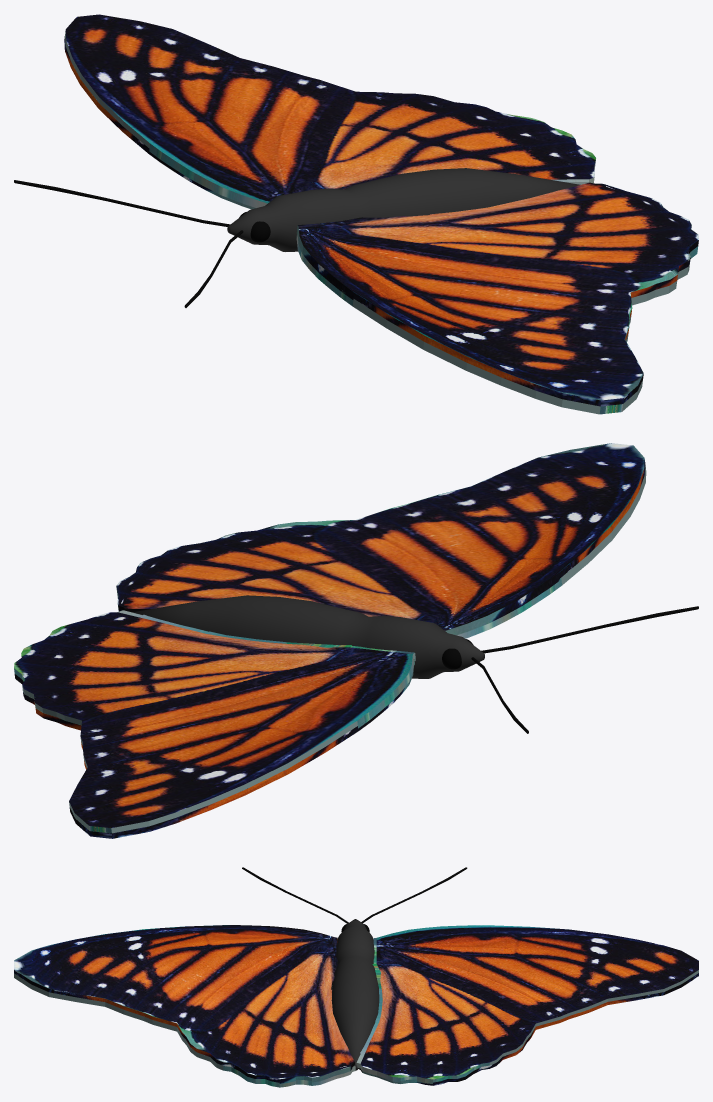
File: Butterfly.fbx
3 views of the same model, one above another, from view 1: azimuth 30°, elevation 25°; view 2: azimuth 150°, elevation 25°; view 3: azimuth 270°, elevation 25° (orthographic). The views are drawn at different scales.
Parts seen in each view (by area): view 1: lw.001, rw.001, body, lw, rw, moustache.001; view 2: rw.001, lw.001, body, rw, lw, moustache; view 3: rw.001, lw.001, body, lw, rw.
Boxes of the visible parts, bbox=[...] form: lw.001: bbox=[296, 182, 698, 406]; rw.001: bbox=[65, 14, 595, 207]; body: bbox=[227, 168, 580, 251]; lw: bbox=[296, 234, 698, 414]; rw: bbox=[64, 36, 594, 209]; moustache.001: bbox=[14, 180, 230, 226]; rw.001: bbox=[14, 610, 415, 833]; lw.001: bbox=[116, 443, 645, 635]; body: bbox=[132, 595, 484, 678]; rw: bbox=[14, 659, 414, 838]; lw: bbox=[117, 465, 646, 638]; moustache: bbox=[481, 606, 698, 653]; rw.001: bbox=[356, 925, 698, 1083]; lw.001: bbox=[14, 925, 354, 1083]; body: bbox=[331, 919, 379, 1070]; lw: bbox=[14, 973, 355, 1087]; rw: bbox=[358, 973, 698, 1085].
Size of the model in its own units: 1046 by 158 by 1787.
